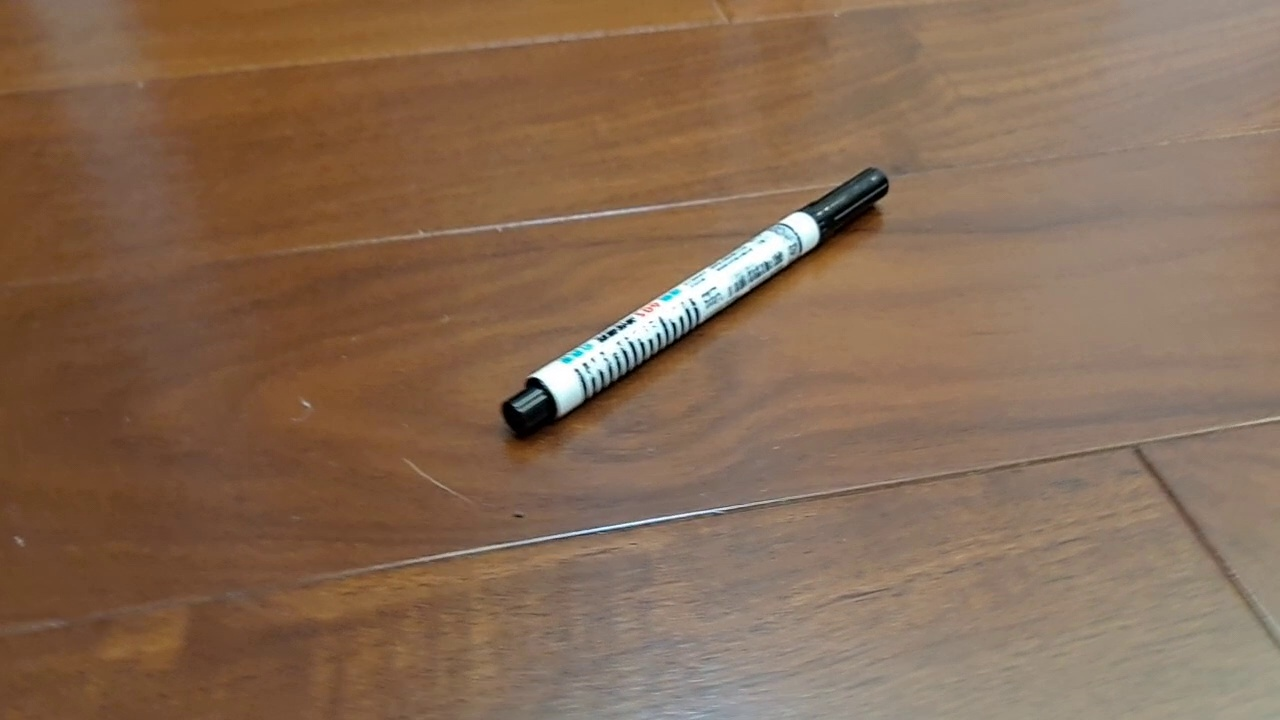pen: (500, 167, 890, 441)
